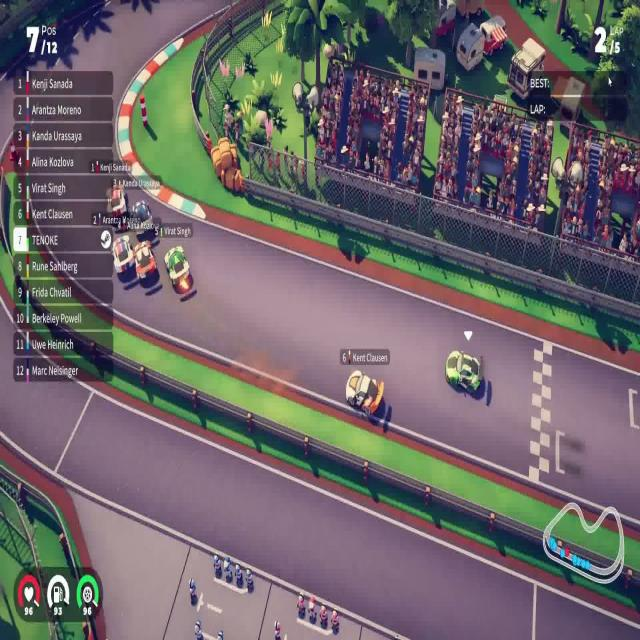car: (345, 368, 384, 417), (444, 348, 482, 394), (163, 244, 193, 296), (130, 199, 158, 242), (111, 234, 135, 276), (133, 239, 156, 282), (104, 183, 130, 214)
